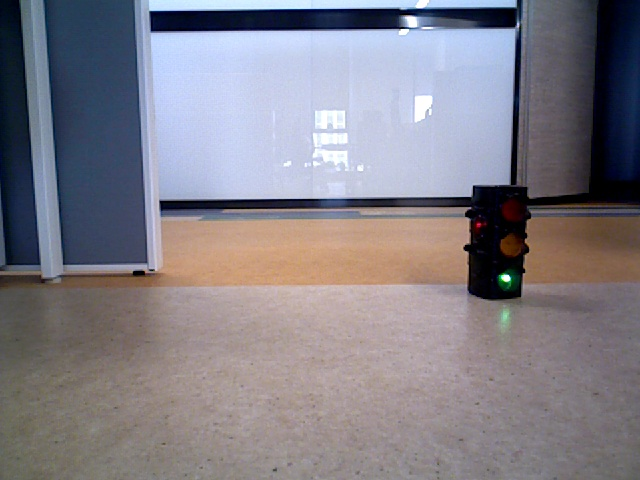green: (472, 189, 520, 294)
